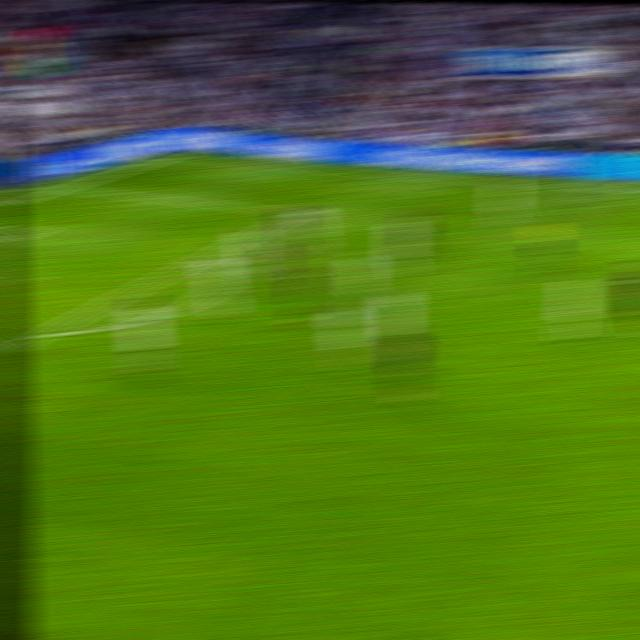bigarea_bottom_outter: (190, 250, 217, 266)
bigarea_top_inner: (288, 206, 312, 220)
bottom_arc_area_intersection: (31, 324, 59, 344)
corner: (159, 151, 185, 162)
